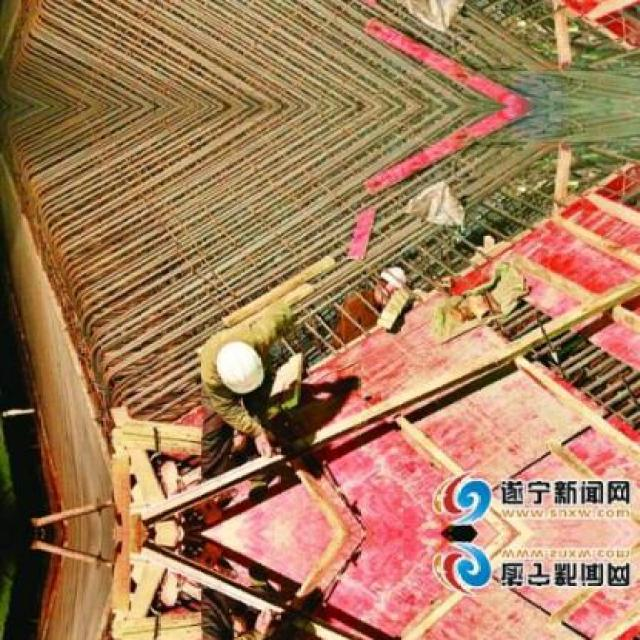helmet: (208, 341, 263, 395), (370, 264, 408, 302)
